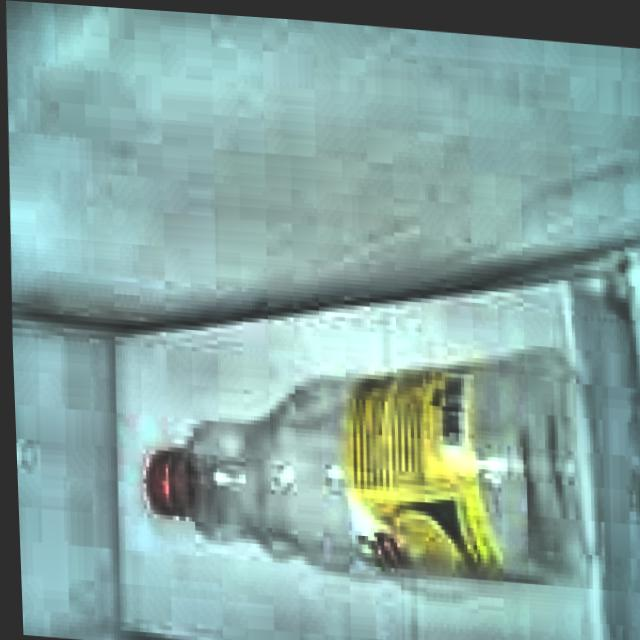Bottles: (130, 300, 609, 618)
